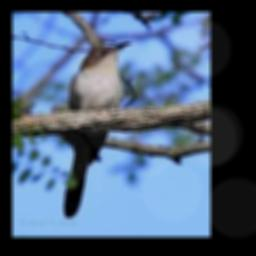Cuckoo: (62, 41, 132, 217)
